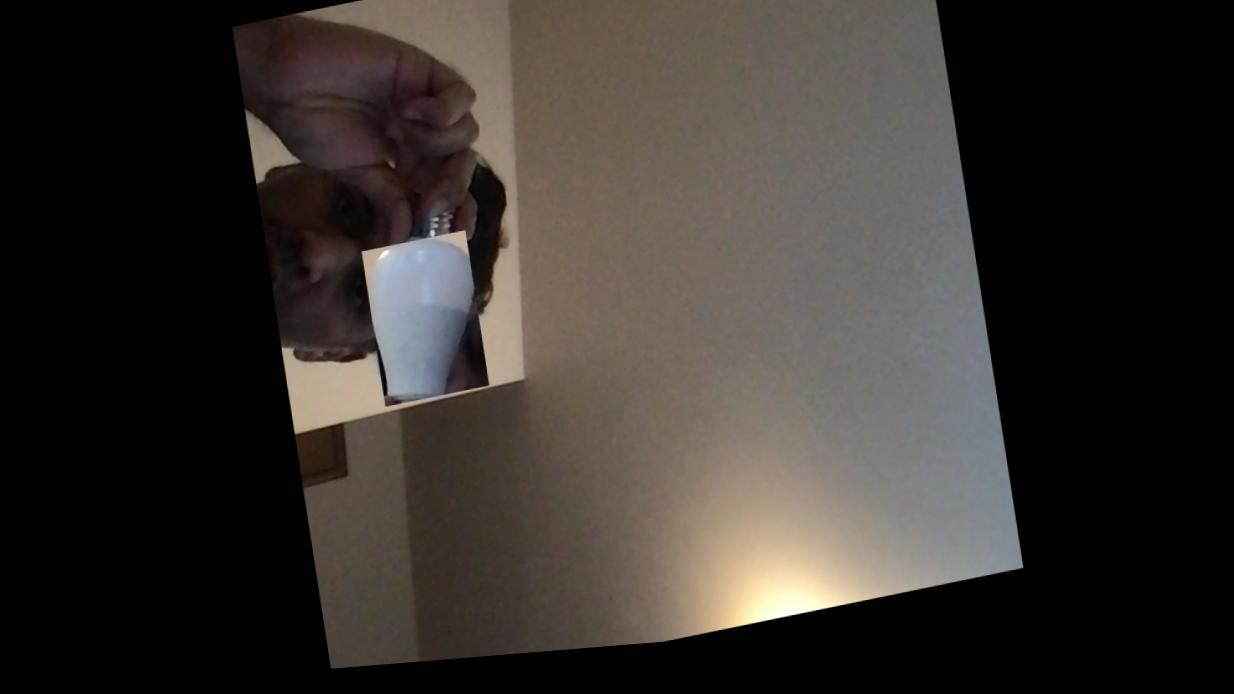Fan: (359, 235, 486, 413)
